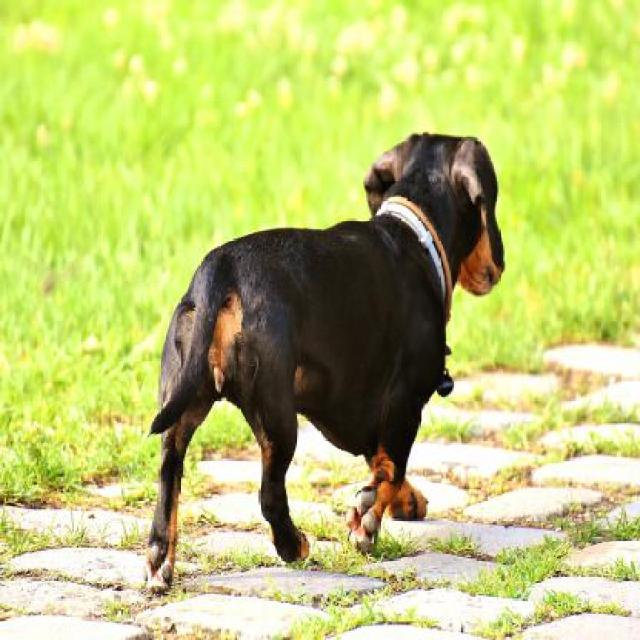Dog: (143, 128, 508, 586)
